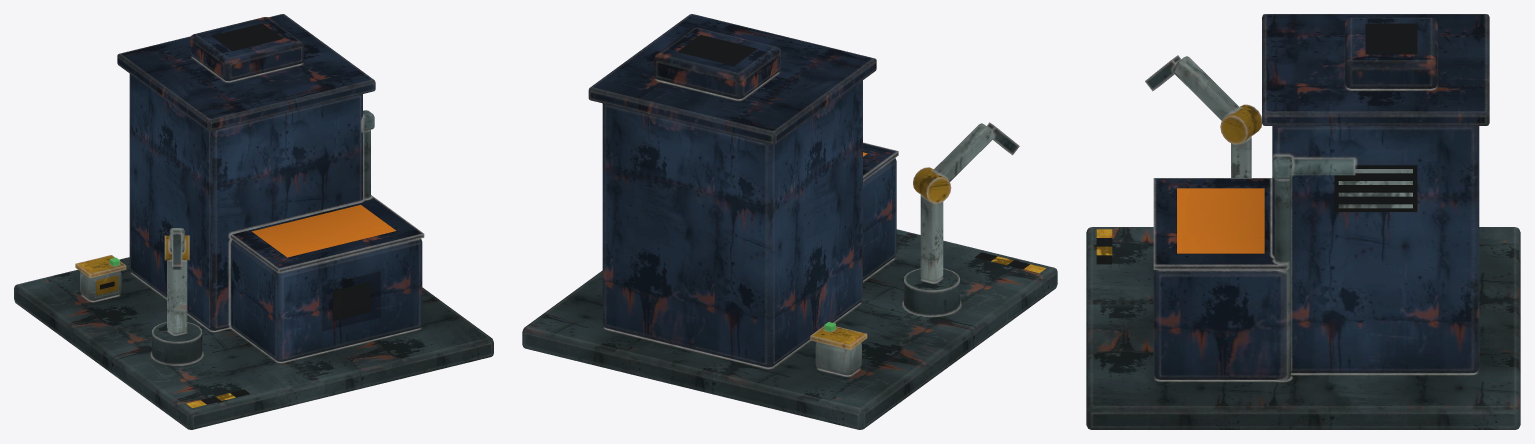
Rendered from smelter.glb.
3 views of the same model, side by side, from view 1: azimuth 30°, elevation 25°; view 2: azimuth 150°, elevation 25°; view 3: azimuth 270°, elevation 25° (orthographic). The views are drawn at different scales.
Parts seen in each view (by area): view 1: te_smelter; view 2: te_smelter; view 3: te_smelter.
Part boxes in pixels (x1,y1,x2,y2): te_smelter: [14, 14, 493, 429]; te_smelter: [522, 14, 1057, 429]; te_smelter: [1086, 14, 1520, 429].
Size of the model in its own units: 0.84 by 0.6806 by 0.84.
Materials: 1 (1 with a texture image).
